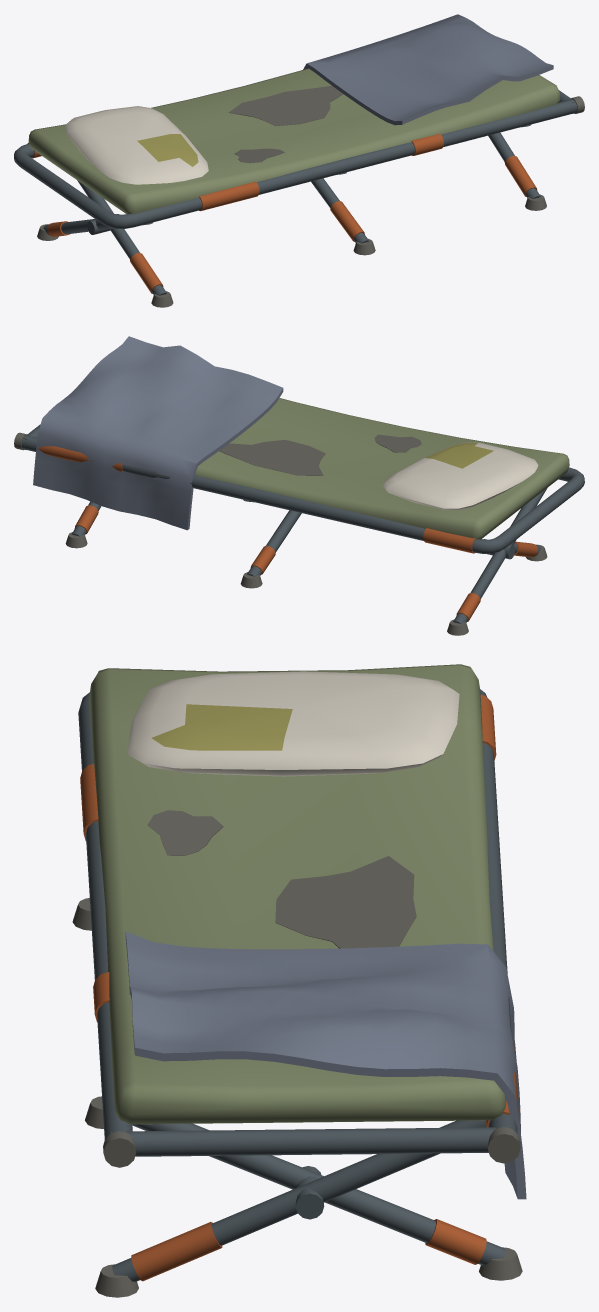
The model's file is cot.glb.
3 renders of one model, top to bottom at view 1: azimuth 30°, elevation 25°; view 2: azimuth 150°, elevation 25°; view 3: azimuth 270°, elevation 25°, orthographic. The views are drawn at different scales.
Parts seen in each view (by area): view 1: cot; view 2: cot; view 3: cot.
Part boxes in pixels (left/top/right/bottom): cot: left=14, top=14, right=584, bottom=307; cot: left=14, top=336, right=584, bottom=635; cot: left=72, top=664, right=526, bottom=1297.
Size of the model in its own units: 2.01 by 0.5366 by 0.8267.
